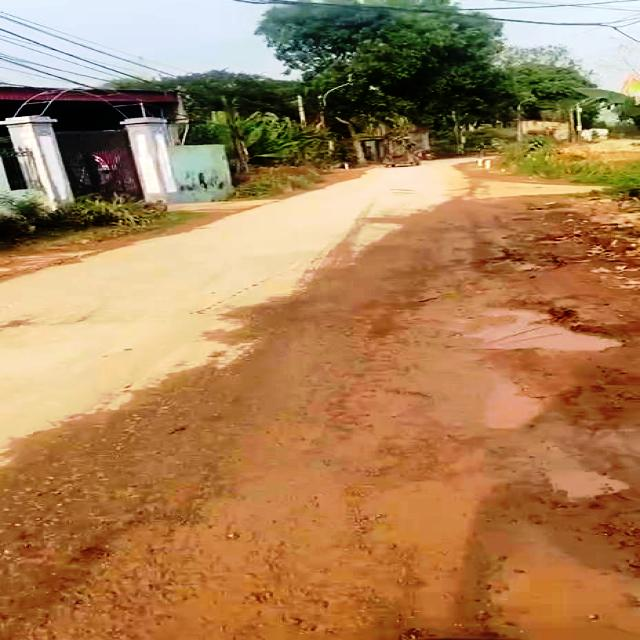pothole: (454, 299, 636, 352), (468, 378, 550, 436), (539, 464, 636, 509)
